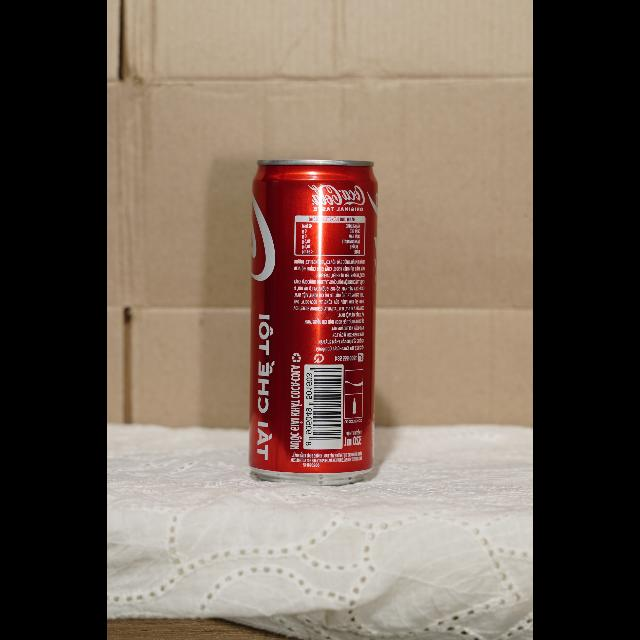coca_cola: (248, 158, 378, 486)
